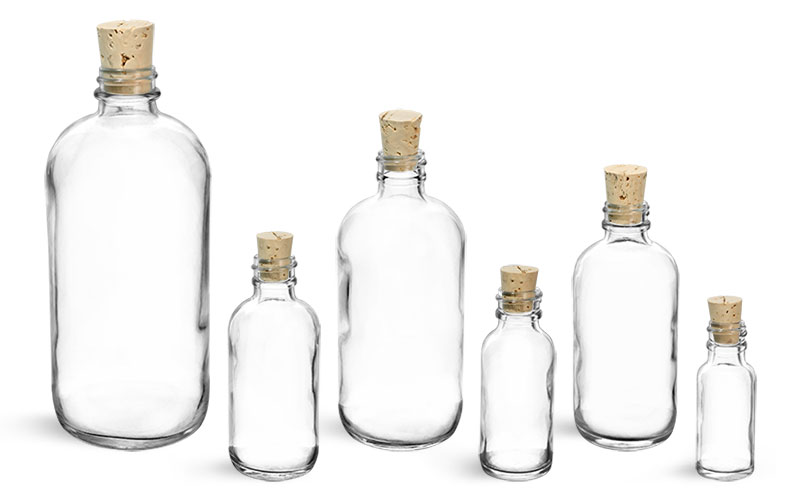glass_bottle: (41, 9, 217, 457), (328, 105, 467, 454), (566, 154, 681, 455), (220, 228, 330, 484), (471, 257, 556, 486), (684, 292, 783, 488)
